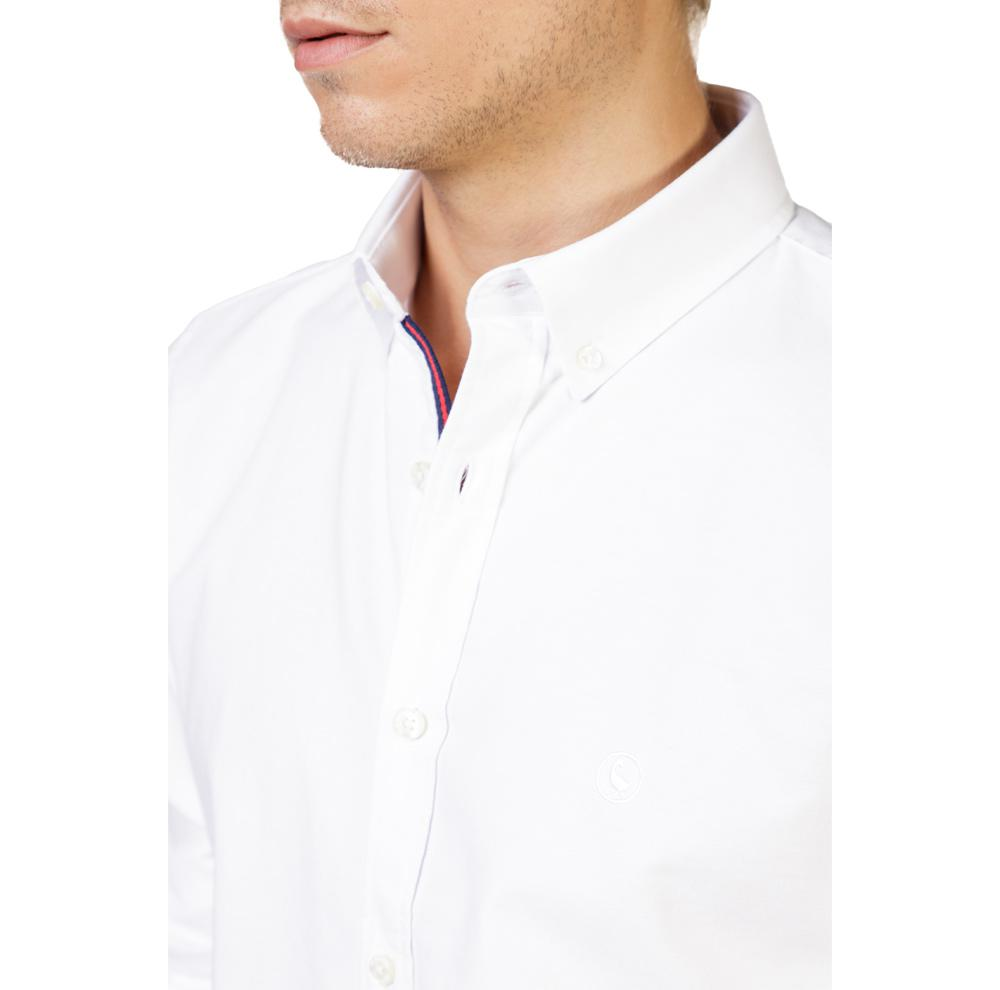teeshirt: (142, 73, 845, 988)
